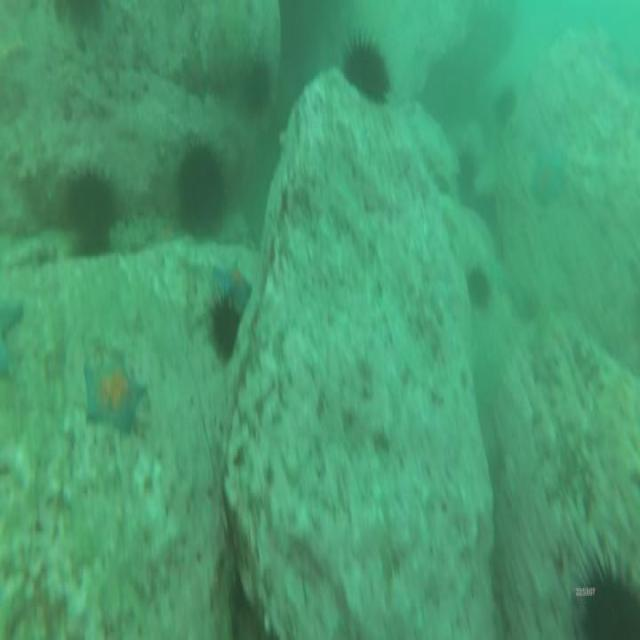echinus: (179, 142, 223, 234), (582, 573, 640, 640), (70, 178, 118, 254), (345, 38, 391, 96), (179, 49, 209, 100), (209, 296, 235, 352), (249, 60, 269, 106), (467, 266, 489, 306)
starfish: (84, 352, 144, 432), (532, 148, 562, 208), (216, 259, 252, 305)
